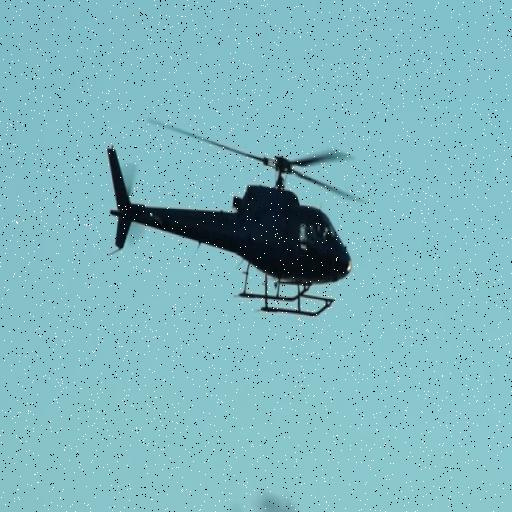helicopter: (93, 111, 364, 329)
